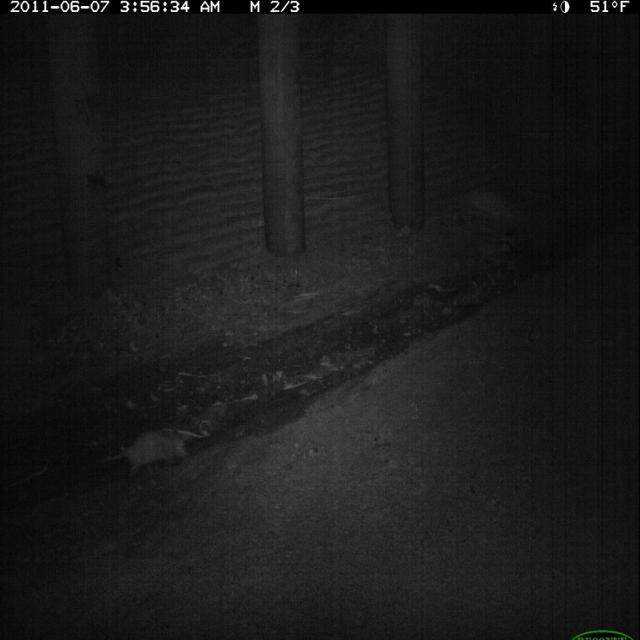opossum: (103, 416, 198, 477)
